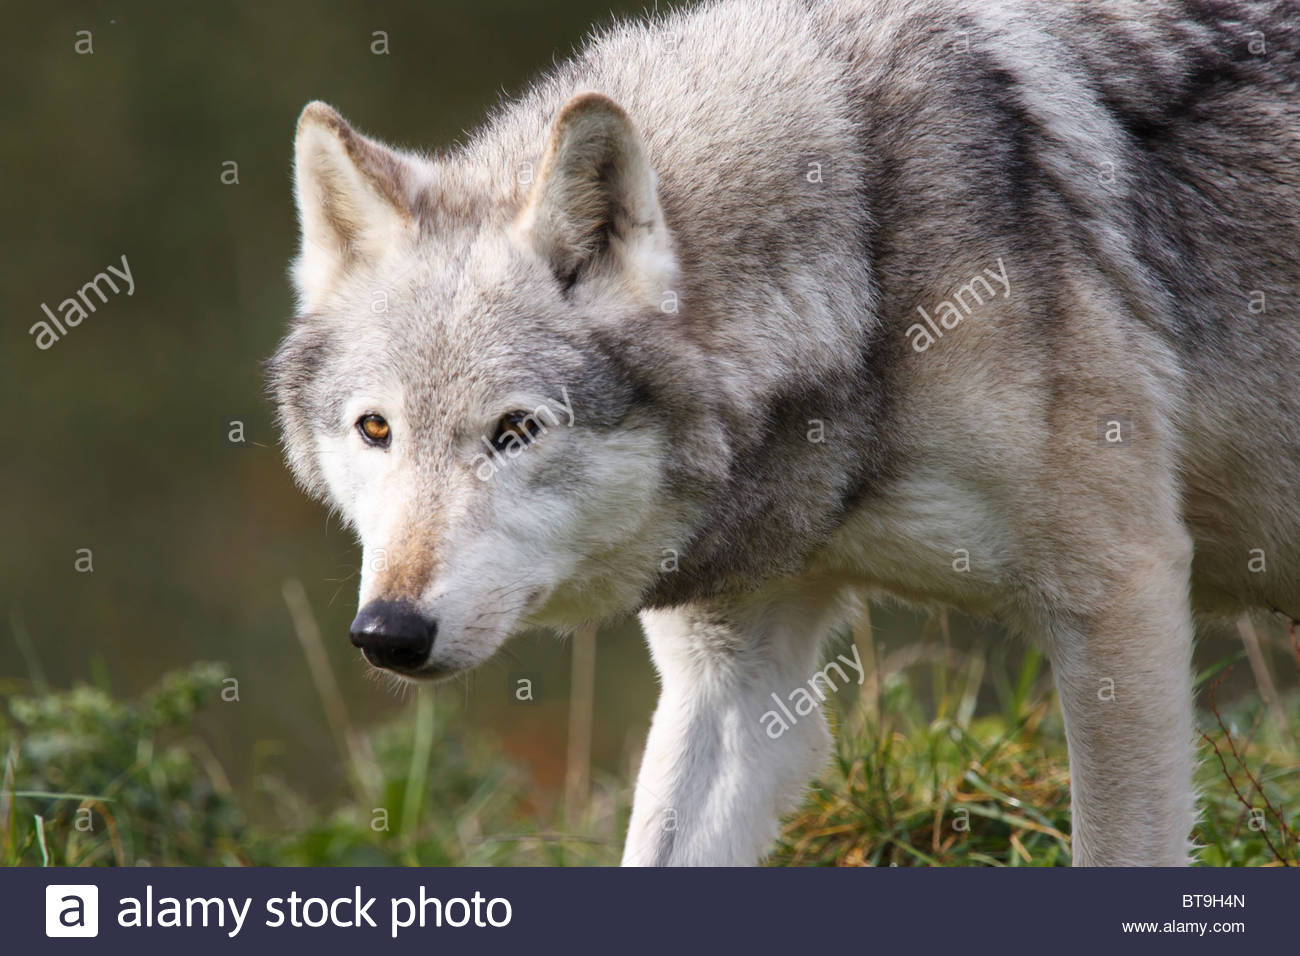Lobo: (249, 44, 1215, 821)
